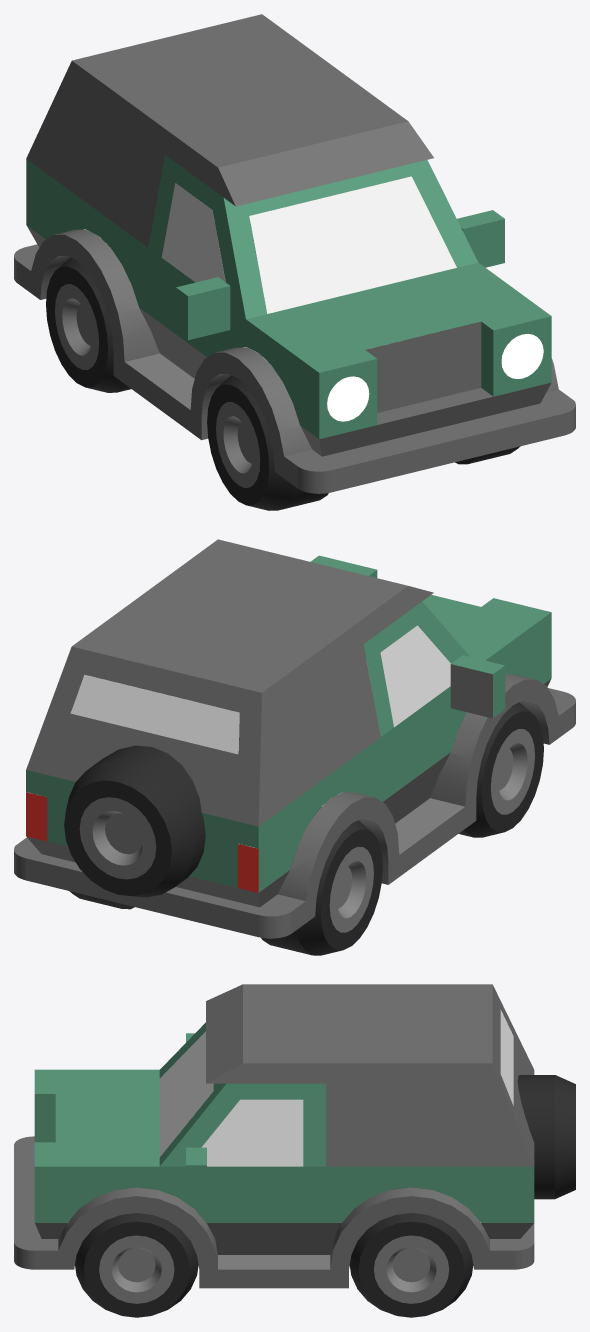
File: suv.glb
3 renders of one model, top to bottom at view 1: azimuth 30°, elevation 25°; view 2: azimuth 150°, elevation 25°; view 3: azimuth 270°, elevation 25°, orthographic. The views are drawn at different scales.
Visible parts, largest first — view 1: Mesh body.001, wheel_frontRight, wheel_backRight; view 2: Mesh body.001, wheel_back, wheel_backRight, wheel_frontRight; view 3: Mesh body.001, wheel_frontLeft, wheel_backLeft, wheel_back.
Boxes of the visible parts, left/top/right/bottom form: Mesh body.001: left=14, top=14, right=575, bottom=493; wheel_frontRight: left=207, top=375, right=328, bottom=510; wheel_backRight: left=46, top=244, right=153, bottom=392; Mesh body.001: left=14, top=539, right=575, bottom=938; wheel_back: left=64, top=745, right=205, bottom=897; wheel_backRight: left=261, top=807, right=382, bottom=955; wheel_frontRight: left=441, top=702, right=543, bottom=837; Mesh body.001: left=14, top=984, right=534, bottom=1288; wheel_frontLeft: left=75, top=1187, right=198, bottom=1317; wheel_backLeft: left=349, top=1187, right=473, bottom=1317; wheel_back: left=517, top=1075, right=575, bottom=1199.
Size of the model in its own units: 1.5 by 1.3 by 2.7.
